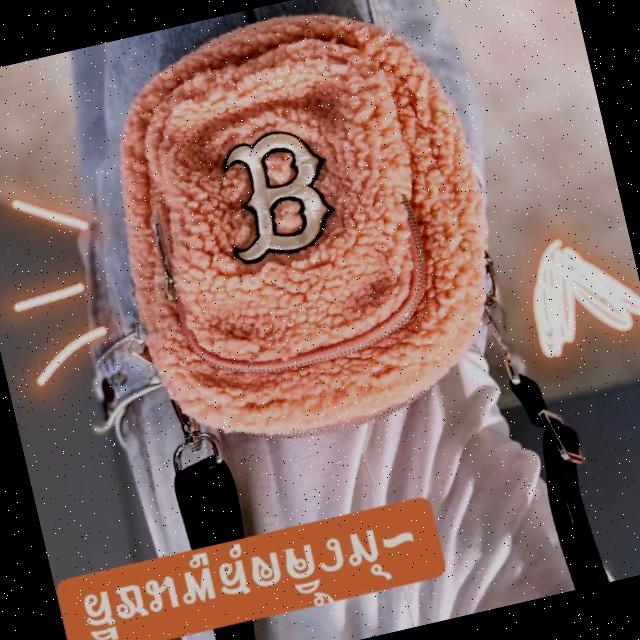Handbag: (77, 0, 531, 471)
